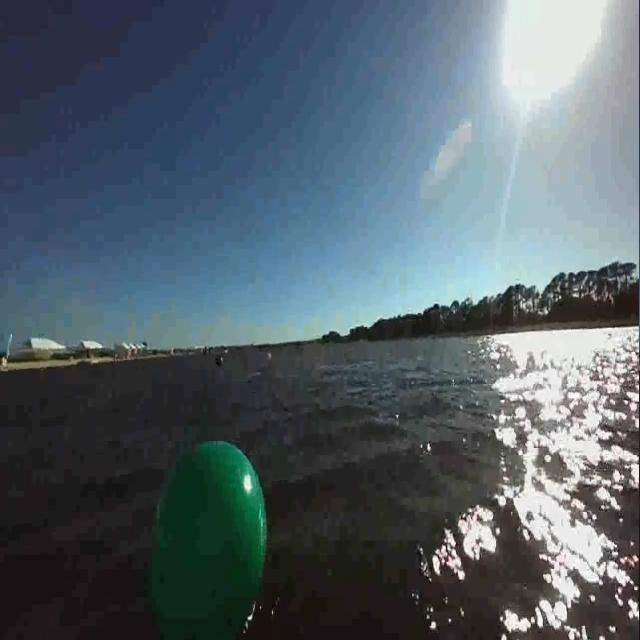green-buoy: (138, 434, 278, 640)
